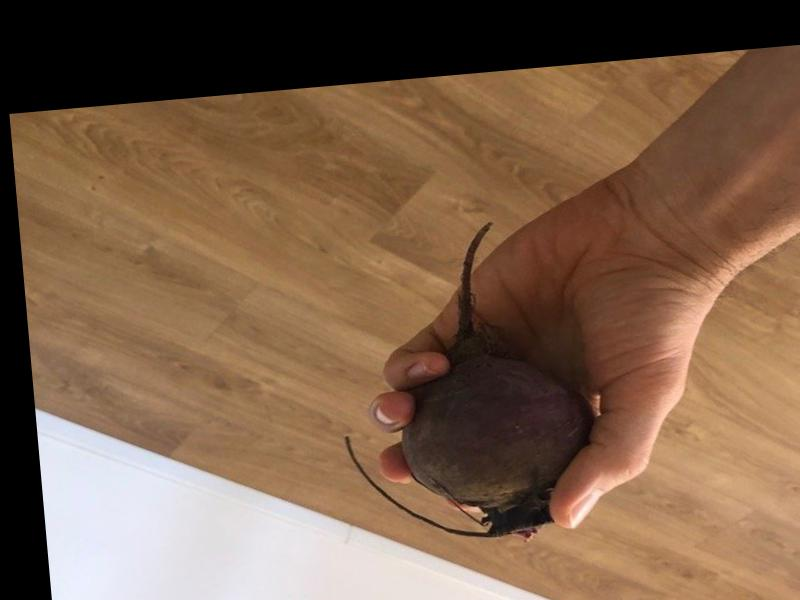Beet: (324, 217, 602, 555)
